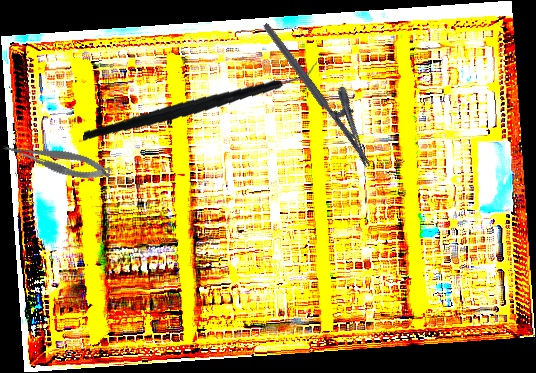Chopper: (82, 39, 318, 161)
Micro Scissor: (0, 129, 114, 190)
Needle Holder: (261, 7, 392, 171)
